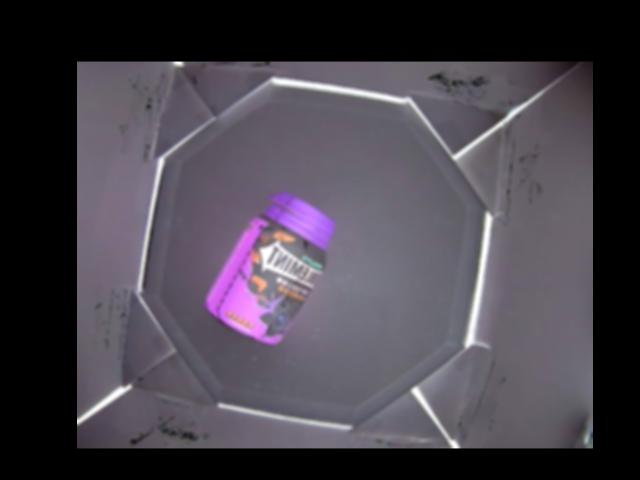Bottle: (206, 191, 335, 346)
